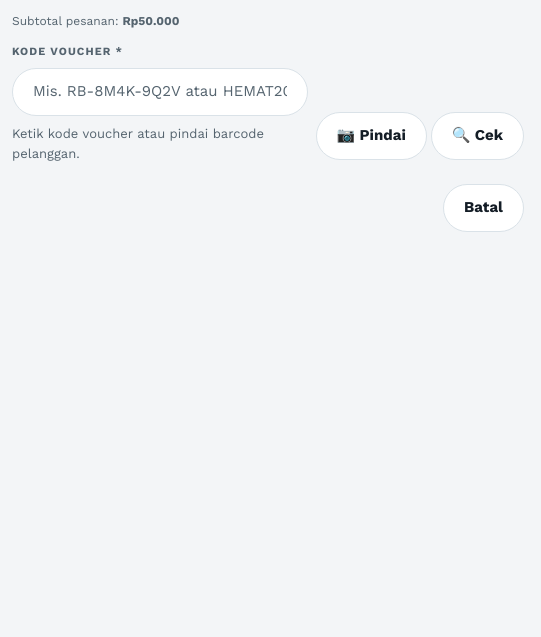
Test case: Integrasi ScanVoucher pada VoucherKasir (T8-10) › kasir dapat membuka pemindai, mengetik kode manual di pemindai, dan otomatis terverifikasi
# Buka pemindai dengan klik tombol "📷 Pindai"
Click the button with aria-label "Buka scan kamera" at coordinates (371, 136), box [316, 112, 427, 160]
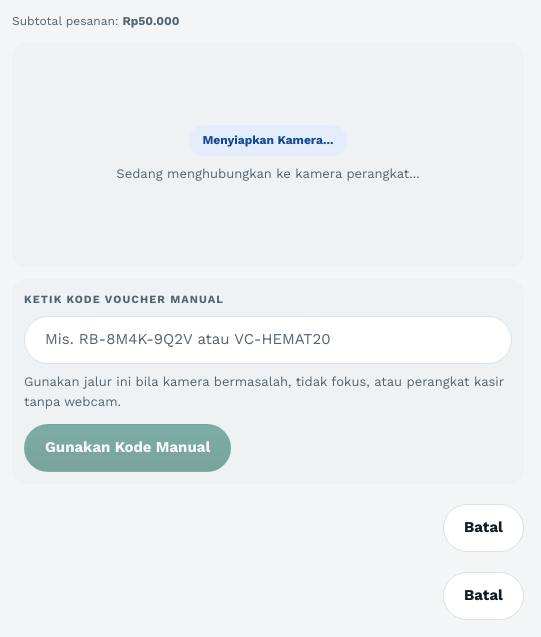
Result: the element with test id "scan-voucher" is shown
# Gunakan jalur manual pada pemindai
Type "VC-SCAN10" into the field labelled "Ketik kode voucher manual" at coordinates (268, 340), box [24, 316, 512, 364]
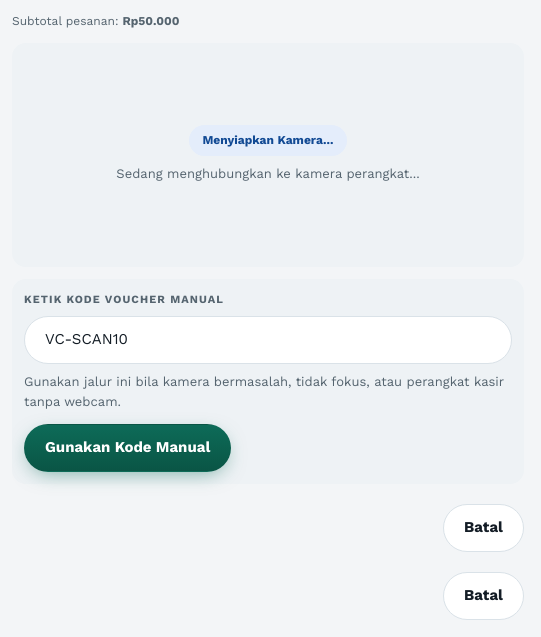
Click the button "Gunakan Kode Manual" at coordinates (128, 448), box [24, 424, 231, 472]
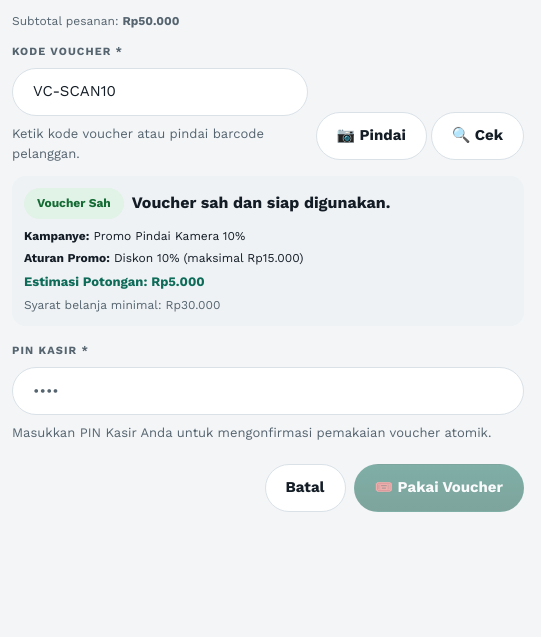
Result: the element with test id "voucher-hasil-cek-sukses" is shown at [12, 176, 524, 326]
Result: the element with test id "voucher-nama-kampanye" shows "Promo Pindai Kamera 10%" at [93, 228, 245, 242]
